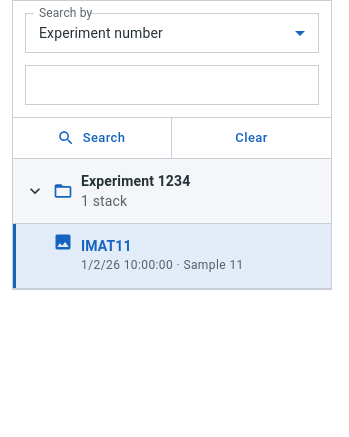
Test: ImatStackJobTree › groups jobs by experiment, sorts newest first, and highlights the selected stack
Click the button "Search".
click(92, 138)  # box [13,118,172,158]
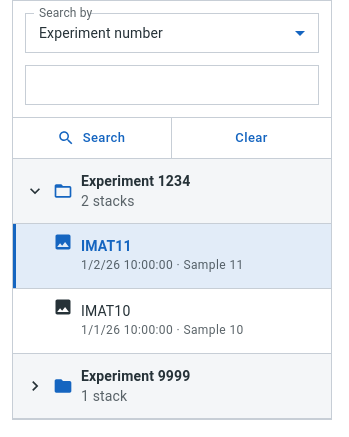
Now the button "Experiment 9999 1 stack" is shown, box [13,354,331,419]
Now the button "Experiment 1234 2 stacks" is shown, box [13,159,331,224]
Now the button "IMAT10 1/1/26 10:00:00 · Sample 10" is shown, box [13,289,331,354]
